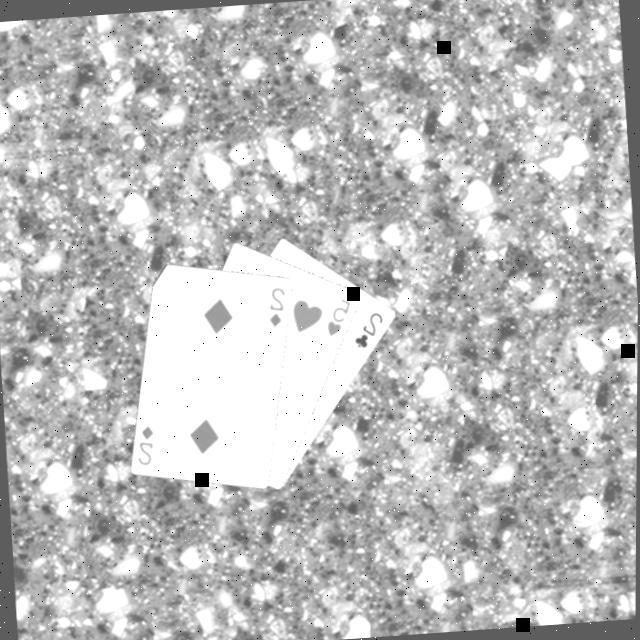2C: (350, 310, 389, 354)
2D: (265, 285, 292, 332), (133, 423, 160, 470)
5H: (323, 296, 357, 341)
